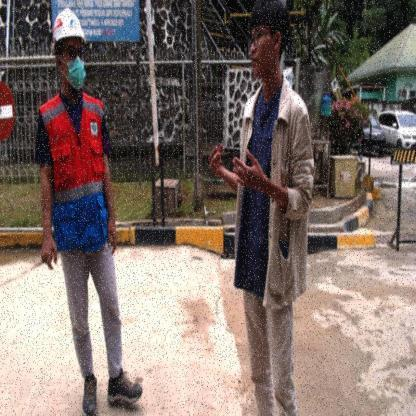boots: (106, 367, 144, 410), (79, 372, 100, 416)
helmet: (50, 6, 88, 44)
mask: (59, 59, 88, 91)
